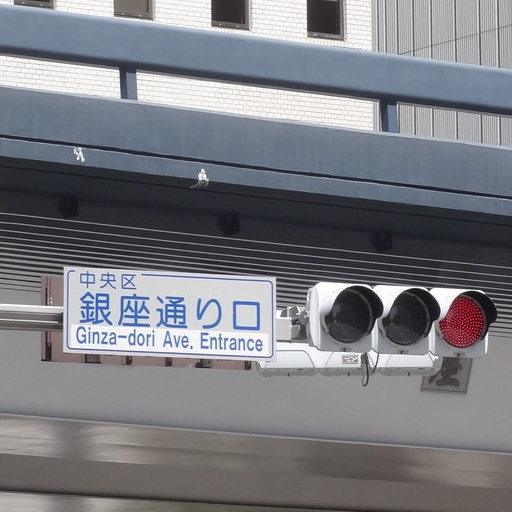Traffic_Signal_Red: (309, 276, 492, 357)
